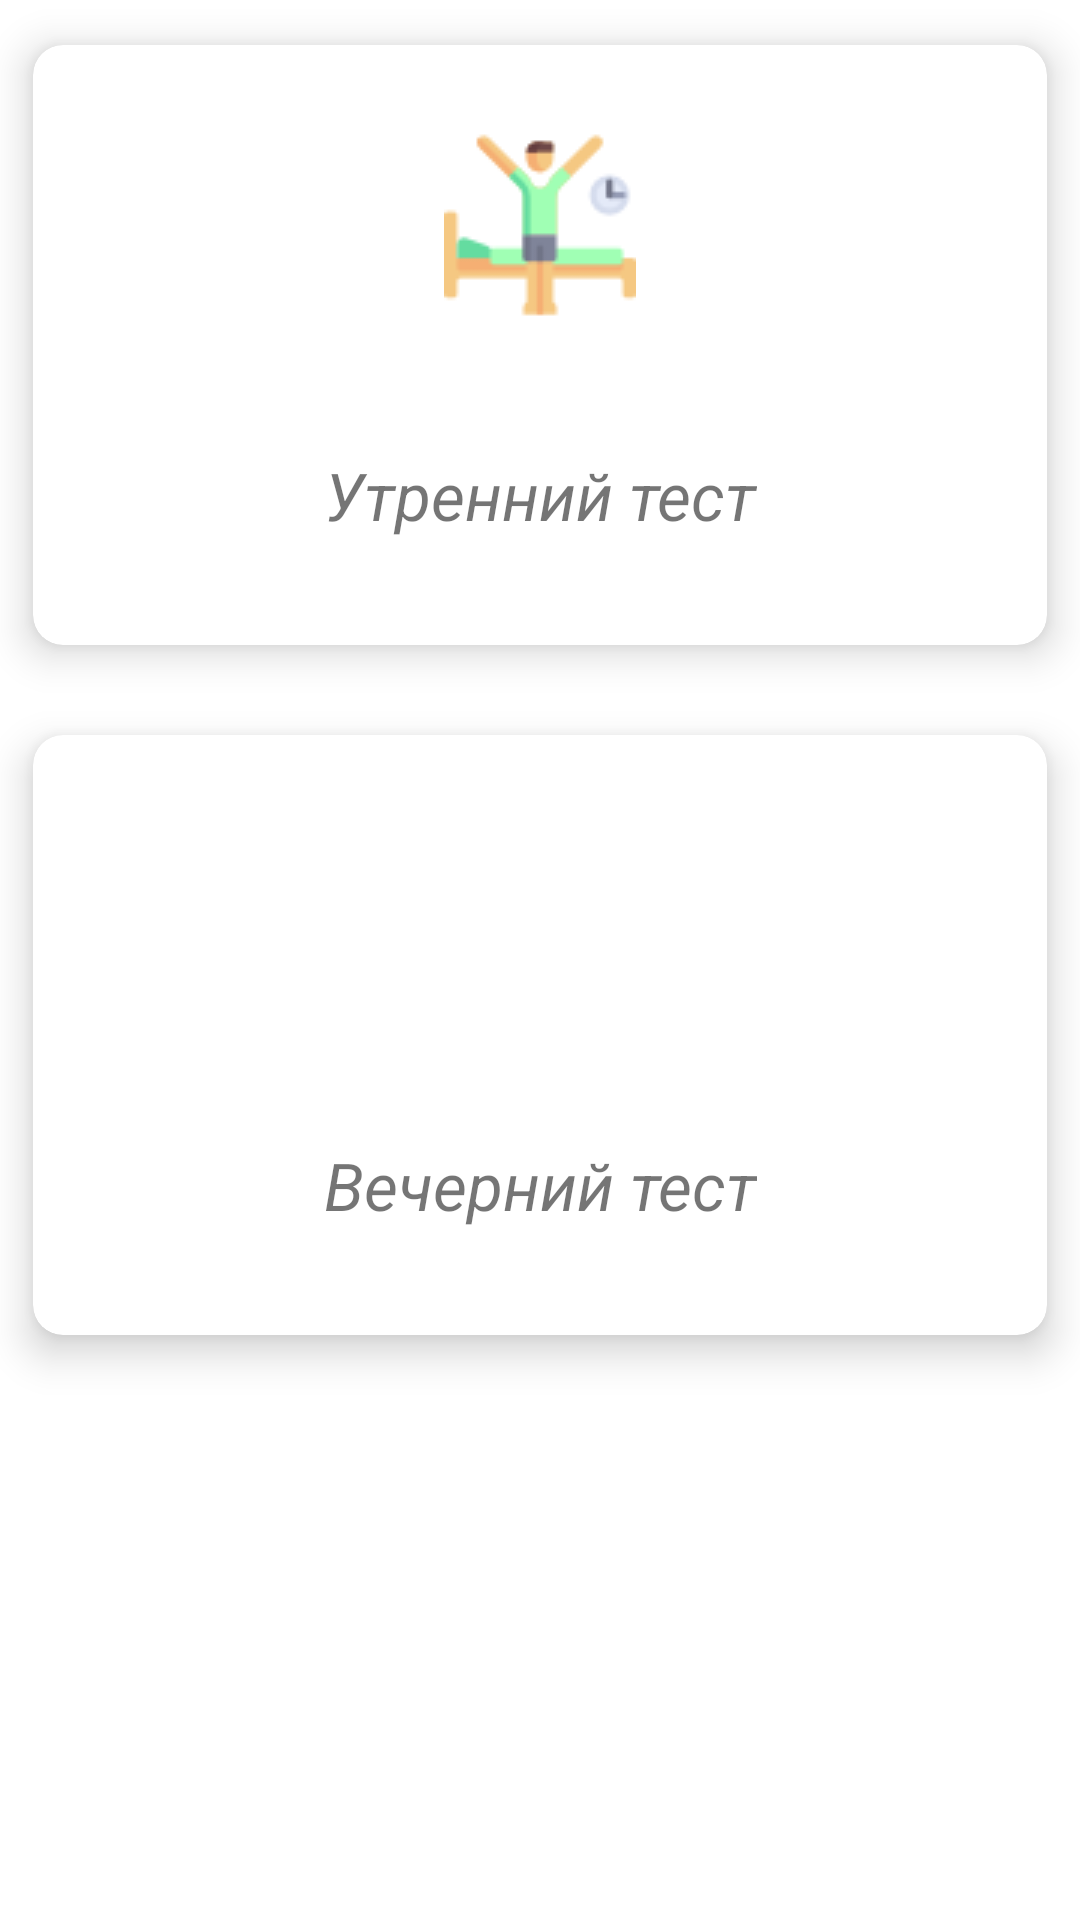

Locate icon controls on the screen. Image size 1080×1920, boxes as [x1=x1, y1=y1, x2=x2, y2=y2].
waking up: [x1=444, y1=134, x2=636, y2=316]
